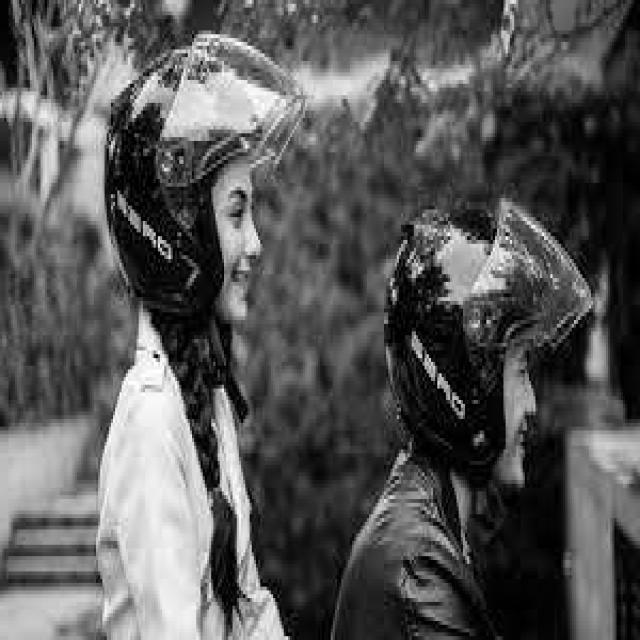Helmet: (106, 26, 306, 318), (385, 202, 595, 479)
